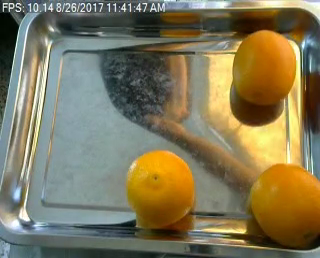Orange: (250, 164, 320, 250), (126, 148, 196, 223), (232, 29, 298, 106)
